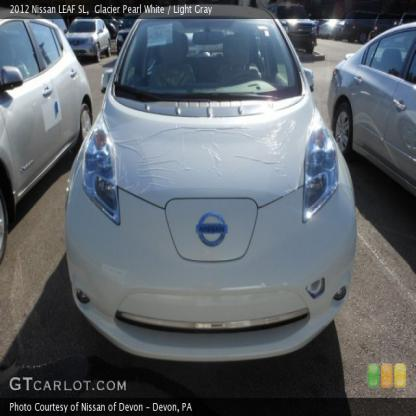Vehicle: (64, 1, 360, 366)
